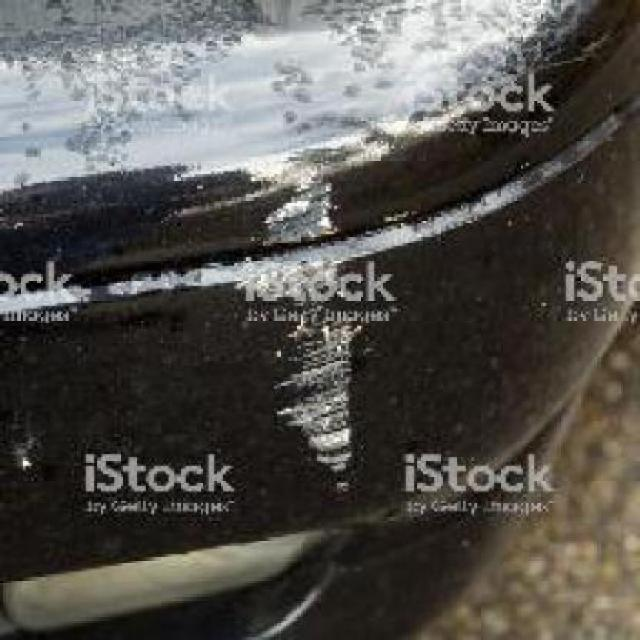dent-or-scratch: (226, 170, 372, 487)
